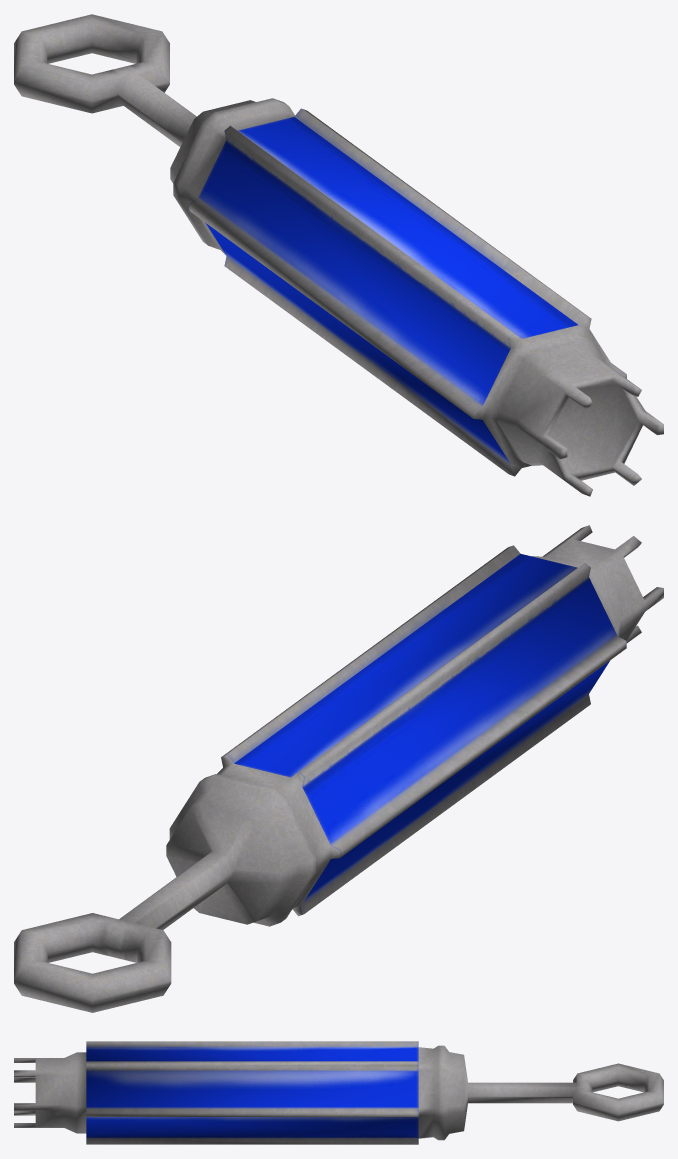
Rendered from injector.glb.
3 renders of one model, top to bottom at view 1: azimuth 30°, elevation 25°; view 2: azimuth 150°, elevation 25°; view 3: azimuth 270°, elevation 25°, orthographic. The views are drawn at different scales.
Parts seen in each view (by area): view 1: polySurface1; view 2: polySurface1; view 3: polySurface1.
Part boxes in pixels (x1=…): polySurface1: x1=14, y1=14, x2=663, y2=496; polySurface1: x1=14, y1=525, x2=663, y2=1012; polySurface1: x1=14, y1=1041, x2=663, y2=1144.
Size of the model in its own units: 2.45 by 2.13 by 15.05.
Materials: 1 (1 with a texture image).
